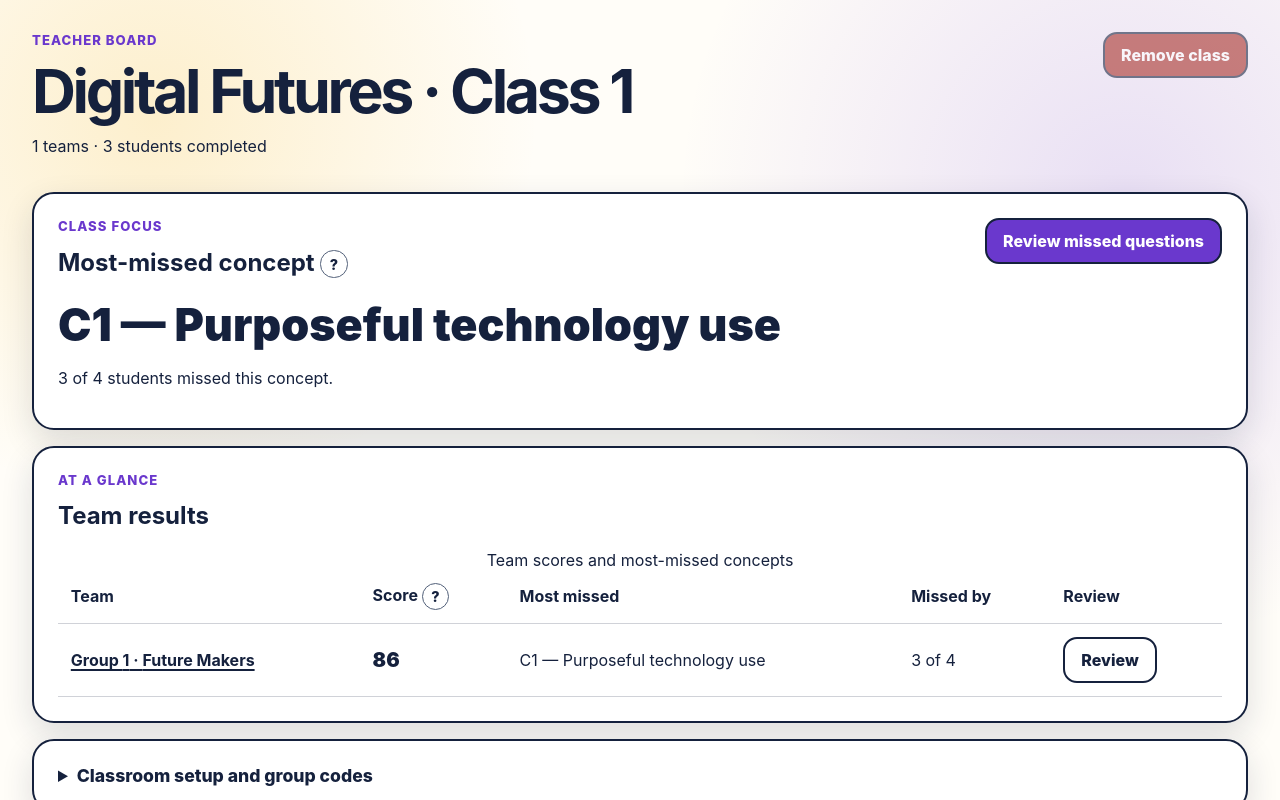
Test: simplified teacher board › puts class focus, team scores, group codes, and progress access in one simple hierarchy
The width and height of the screenshot is (1280, 800).
expect the heading "Digital Futures · Class 1" is shown: met, box [32,62,632,120]
expect the heading "Most-missed concept ?" is shown: met, box [58,248,348,278]
Click the heading "Classroom setup and group codes": x=225, y=775 [77,765,373,786]
(page scrolled)
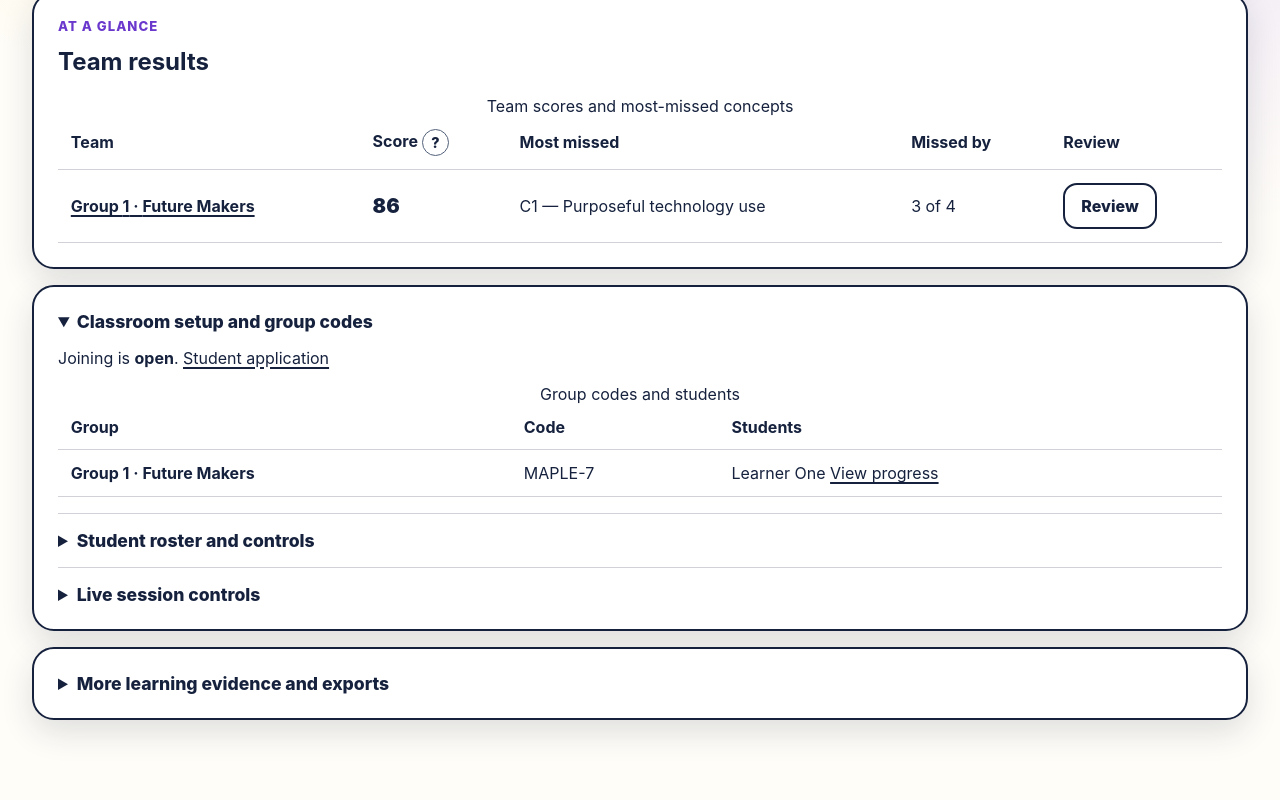
expect the text "MAPLE-7" is shown: met, box [511,450,719,496]
